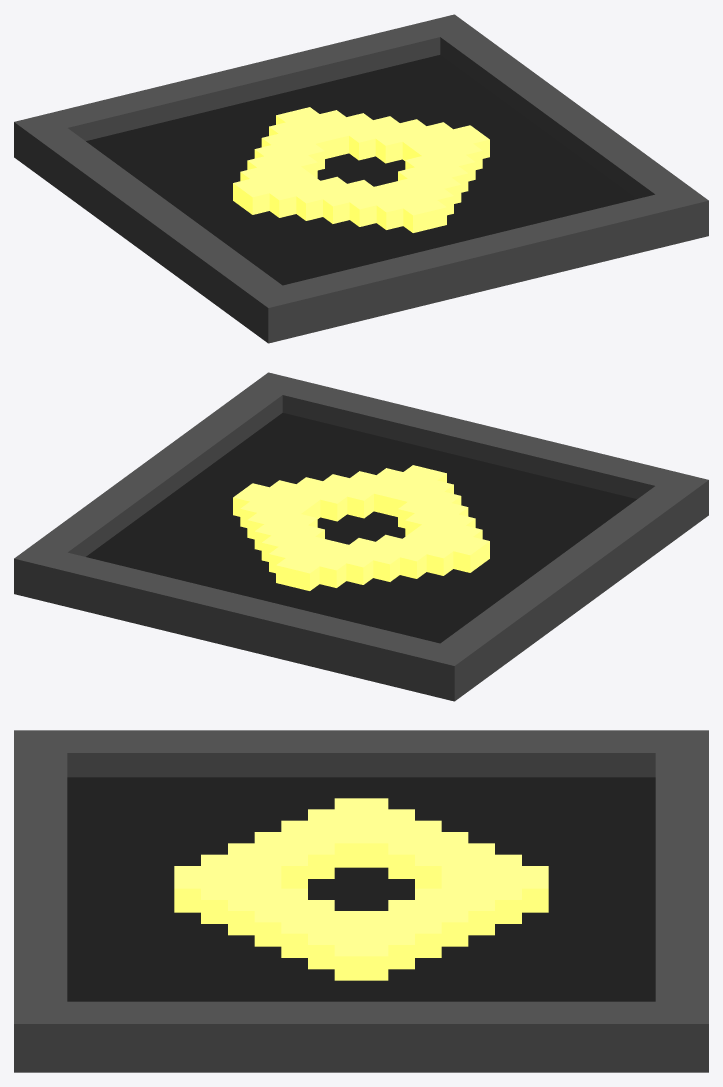
The model's file is trap_DIAMOND_YELLOW.glb.
3 views of the same model, one above another, from view 1: azimuth 30°, elevation 25°; view 2: azimuth 150°, elevation 25°; view 3: azimuth 270°, elevation 25° (orthographic). The views are drawn at different scales.
Visible parts, largest first — view 1: item_TRAP_DIAMOND_YELLOW; view 2: item_TRAP_DIAMOND_YELLOW; view 3: item_TRAP_DIAMOND_YELLOW.
Part boxes in pixels (<box>): item_TRAP_DIAMOND_YELLOW: <box>14,14,708,343</box>; item_TRAP_DIAMOND_YELLOW: <box>14,372,708,701</box>; item_TRAP_DIAMOND_YELLOW: <box>14,730,708,1072</box>.
Size of the model in its own units: 0.5909 by 0.0455 by 0.5909.
Materials: 1 (1 with a texture image).
